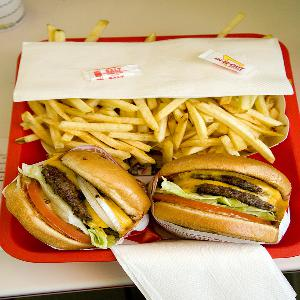cheeseburger_475cal: (6, 154, 155, 250), (154, 153, 293, 252)
fries_350cal: (20, 98, 291, 162)
